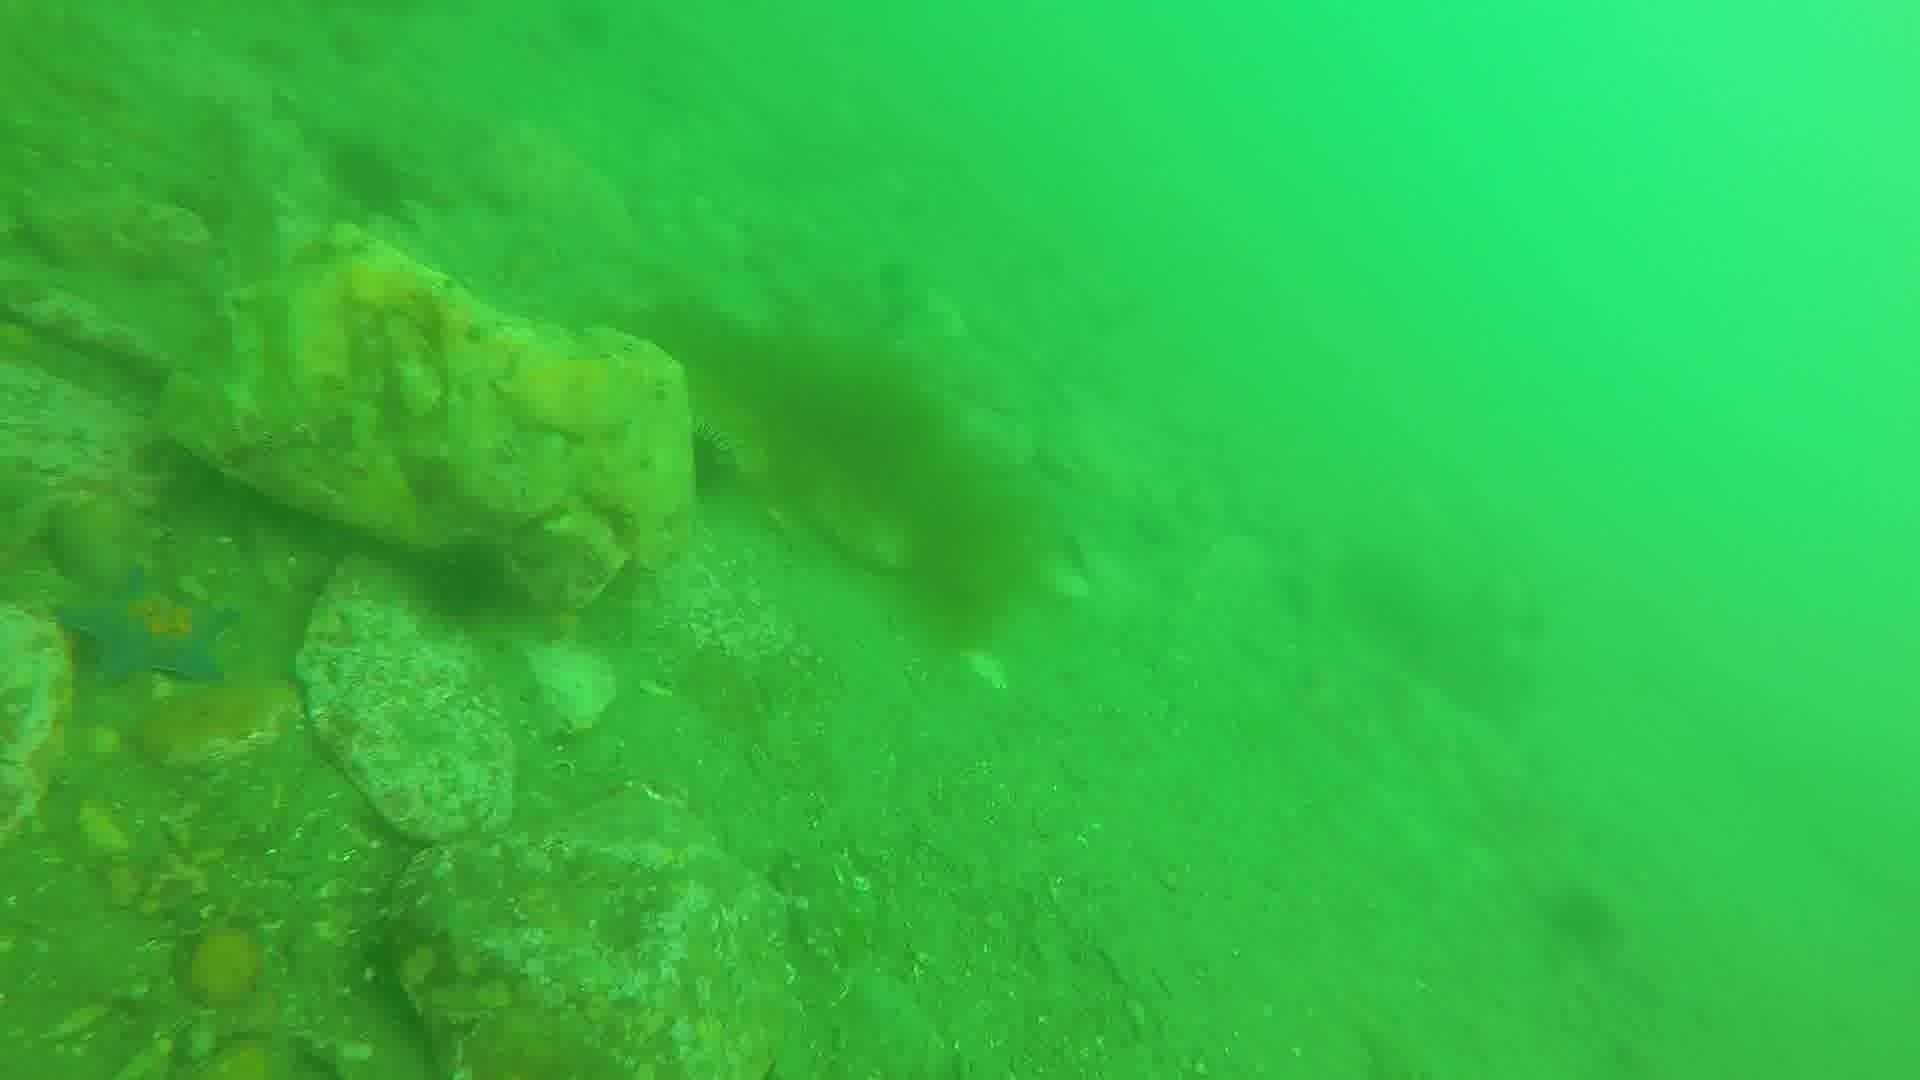echinus: (411, 534, 520, 628), (320, 135, 415, 222), (1538, 877, 1626, 957), (680, 419, 740, 505)
starfish: (53, 567, 239, 690)
